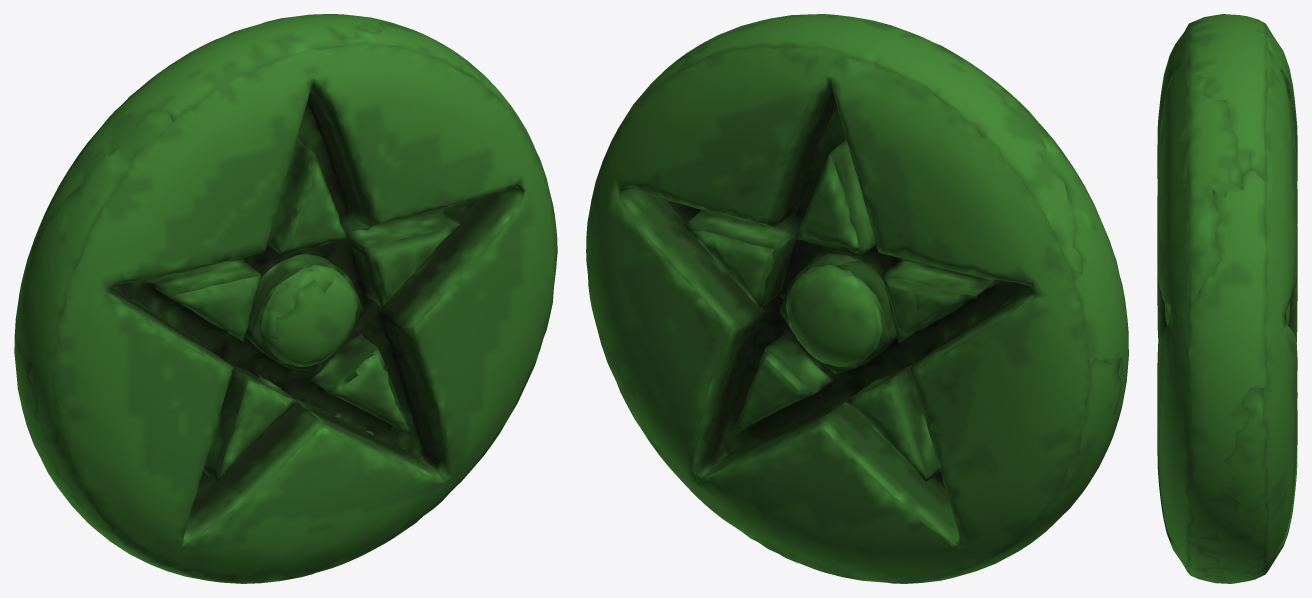
Rendered from PINVA0.obj.
3 renders of one model, left to right at view 1: azimuth 30°, elevation 25°; view 2: azimuth 150°, elevation 25°; view 3: azimuth 270°, elevation 25°, orthographic. The views are drawn at different scales.
Size of the model in its own units: 1 by 1 by 0.2476.
Materials: 1 (1 with a texture image).
